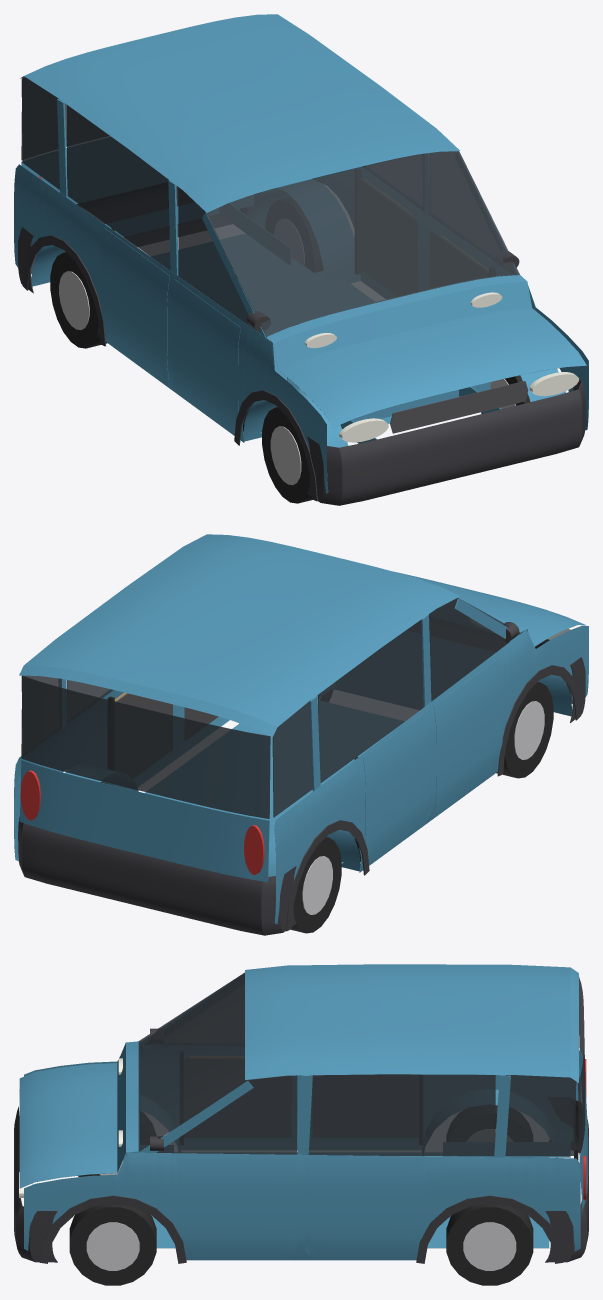
Rendered from capot-surface.glb.
3 renders of one model, top to bottom at view 1: azimuth 30°, elevation 25°; view 2: azimuth 150°, elevation 25°; view 3: azimuth 270°, elevation 25°, orthographic. The views are drawn at different scales.
Visible parts, largest first — view 1: CAR-PANEL-ROOF 1, Pare-brise 1, CAR-HOOD-SHELL 1, CAR-BUMPER-SKIN-FRONT 1, CAR-PANEL-SIDE 2, Vitre arrière 2, CAR-COWL 1, CAR-DOOR-SHELL-REAR 2, CAR-DOOR-SHELL-FRONT 2, Vitre avant 2, CAR-GLASS-QUARTER 2, CAR-GRILLE 1 (+19 smaller); view 2: CAR-PANEL-ROOF 1, CAR-GLASS-TAILGATE 1, CAR-BUMPER-SKIN-REAR 1, CAR-TAILGATE-SHELL 1, CAR-PANEL-SIDE 2, Vitre arrière 2, CAR-DOOR-SHELL-FRONT 2, CAR-DOOR-SHELL-REAR 2, Vitre avant 2, CAR-GLASS-QUARTER 2, CAR-PANEL-FLOOR 1, CAR-HOOD-SHELL 1 (+17 smaller); view 3: CAR-PANEL-ROOF 1, CAR-PANEL-SIDE 1, Vitre arrière 1, Pare-brise 1, CAR-DOOR-SHELL-FRONT 1, CAR-DOOR-SHELL-REAR 1, CAR-HOOD-SHELL 1, Vitre avant 1, CAR-GLASS-QUARTER 1, Pneu 1, Pneu 3, CAR-COWL 1 (+16 smaller).
Boxes of the visible parts, x1=… form: CAR-PANEL-ROOF 1: x1=20, y1=14, x2=459, y2=212; Pare-brise 1: x1=205, y1=151, x2=519, y2=336; CAR-HOOD-SHELL 1: x1=279, y1=308, x2=586, y2=427; CAR-BUMPER-SKIN-FRONT 1: x1=307, y1=379, x2=585, y2=505; CAR-PANEL-SIDE 2: x1=14, y1=164, x2=328, y2=493; Vitre arrière 2: x1=67, y1=105, x2=170, y2=270; CAR-COWL 1: x1=266, y1=275, x2=531, y2=369; CAR-DOOR-SHELL-REAR 2: x1=101, y1=228, x2=169, y2=385; CAR-DOOR-SHELL-FRONT 2: x1=171, y1=279, x2=240, y2=434; Vitre avant 2: x1=178, y1=187, x2=256, y2=330; CAR-GLASS-QUARTER 2: x1=21, y1=76, x2=59, y2=189; CAR-GRILLE 1: x1=390, y1=381, x2=528, y2=433; CAR-PANEL-ROOF 1: x1=19, y1=534, x2=459, y2=737; CAR-GLASS-TAILGATE 1: x1=21, y1=675, x2=270, y2=818; CAR-BUMPER-SKIN-REAR 1: x1=18, y1=816, x2=296, y2=935; CAR-TAILGATE-SHELL 1: x1=19, y1=760, x2=269, y2=882; CAR-PANEL-SIDE 2: x1=274, y1=625, x2=588, y2=924; Vitre arrière 2: x1=318, y1=620, x2=423, y2=782; CAR-DOOR-SHELL-FRONT 2: x1=434, y1=657, x2=502, y2=815; CAR-DOOR-SHELL-REAR 2: x1=363, y1=709, x2=431, y2=864; Vitre avant 2: x1=429, y1=598, x2=509, y2=701; CAR-GLASS-QUARTER 2: x1=272, y1=700, x2=312, y2=817; CAR-PANEL-FLOOR 1: x1=145, y1=700, x2=404, y2=863; CAR-HOOD-SHELL 1: x1=395, y1=572, x2=585, y2=646; CAR-PANEL-ROOF 1: x1=245, y1=964, x2=578, y2=1082; CAR-PANEL-SIDE 1: x1=24, y1=1152, x2=580, y2=1260; Vitre arrière 1: x1=308, y1=1074, x2=495, y2=1155; Pare-brise 1: x1=138, y1=972, x2=247, y2=1151; CAR-DOOR-SHELL-FRONT 1: x1=179, y1=1159, x2=297, y2=1258; CAR-DOOR-SHELL-REAR 1: x1=305, y1=1159, x2=423, y2=1258; CAR-HOOD-SHELL 1: x1=19, y1=1063, x2=117, y2=1188; Vitre avant 1: x1=156, y1=1075, x2=297, y2=1154; CAR-GLASS-QUARTER 1: x1=505, y1=1075, x2=576, y2=1155; Pneu 1: x1=69, y1=1204, x2=156, y2=1285; Pneu 3: x1=446, y1=1204, x2=533, y2=1285; CAR-COWL 1: x1=117, y1=1041, x2=139, y2=1172.
Bounding box in the file's own units: 1.92 × 1.73 × 4.06.
